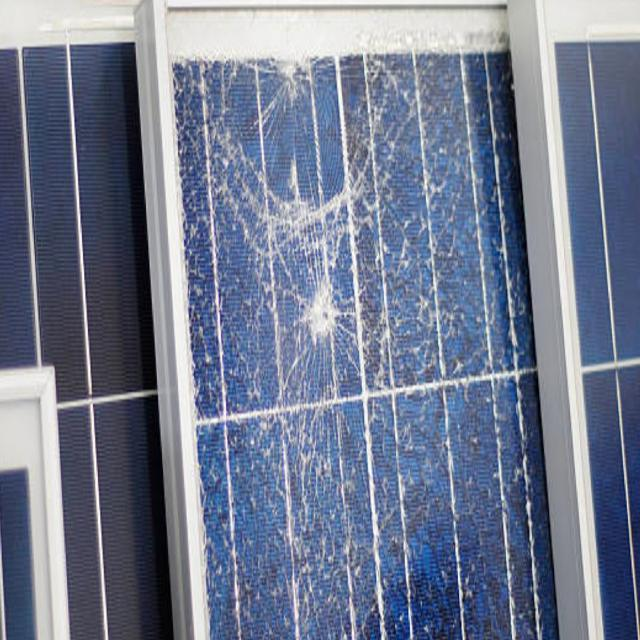Physical-damage: (167, 13, 561, 640)
